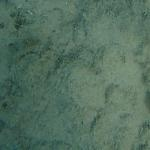dead: (5, 5, 145, 147)
